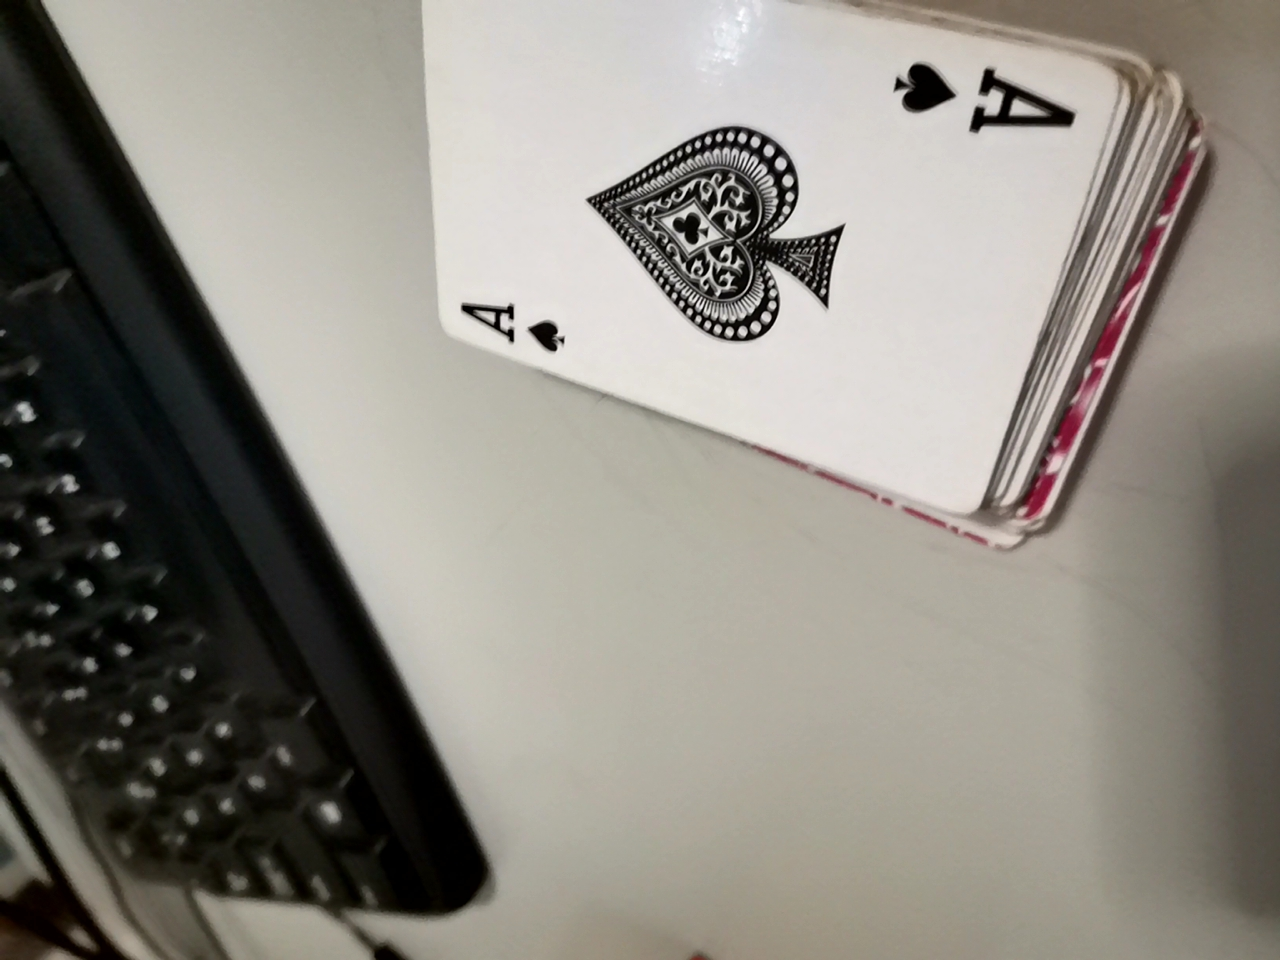ht a: (424, 0, 1159, 520)
